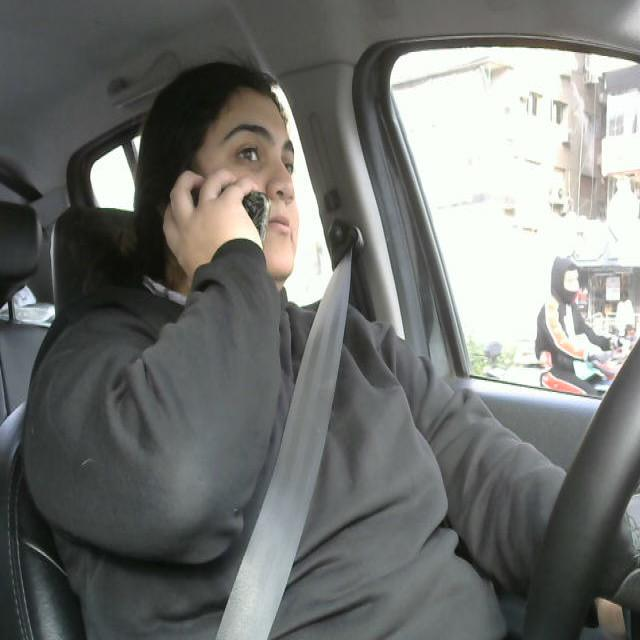mobile use: (153, 164, 272, 271)
